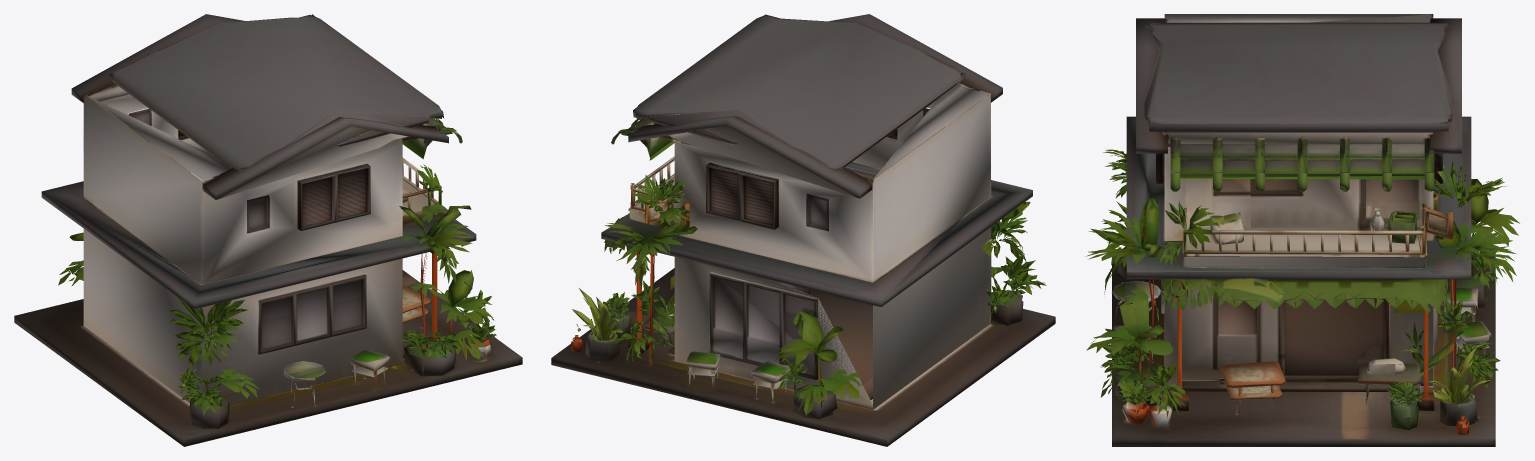
Rendered from environment.corner-cafe-01.lod1.glb.
The picture shows the model from 3 angles, left to right: view 1: azimuth 30°, elevation 25°; view 2: azimuth 150°, elevation 25°; view 3: azimuth 270°, elevation 25°; orthographic projection. The views are drawn at different scales.
Parts seen in each view (by area): view 1: environment.corner-cafe-01_LOD1_00; view 2: environment.corner-cafe-01_LOD1_00; view 3: environment.corner-cafe-01_LOD1_00.
Part boxes in pixels (<box>): environment.corner-cafe-01_LOD1_00: <box>14,14,522,446</box>; environment.corner-cafe-01_LOD1_00: <box>551,14,1055,446</box>; environment.corner-cafe-01_LOD1_00: <box>1086,14,1519,446</box>.
Size of the model in its own units: 6 by 4.68 by 5.93.
1 material, 1 textured.
